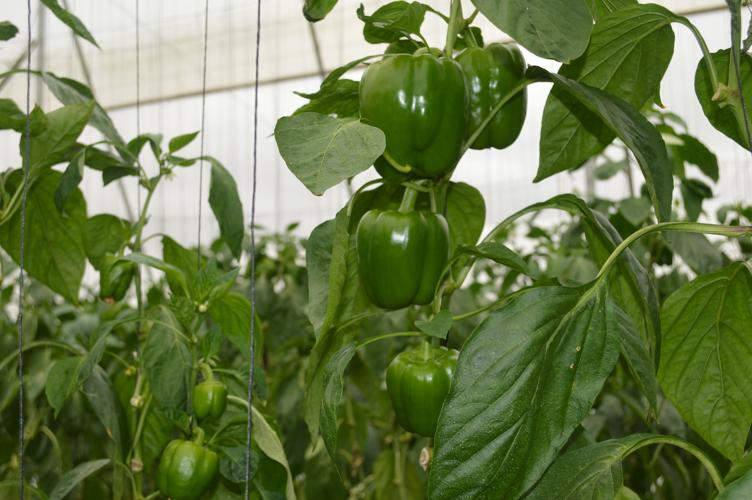BellPepper: (350, 44, 464, 187), (337, 201, 455, 317), (443, 26, 536, 166), (372, 336, 465, 444), (144, 435, 224, 499), (187, 375, 232, 422)
